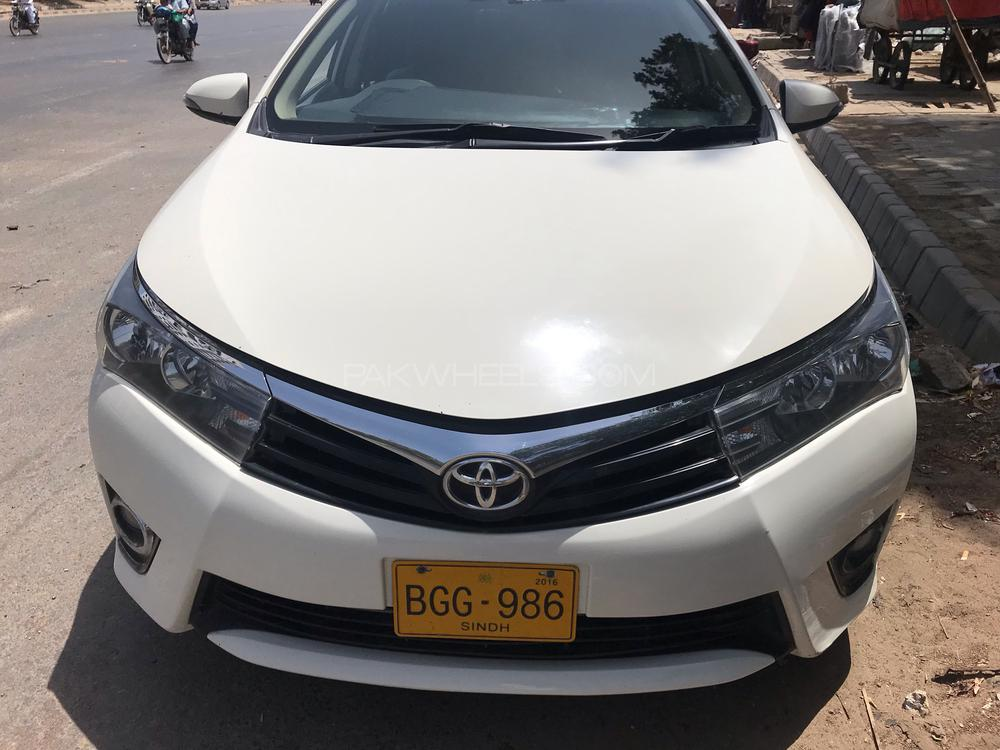license plate: (395, 562, 577, 639)
